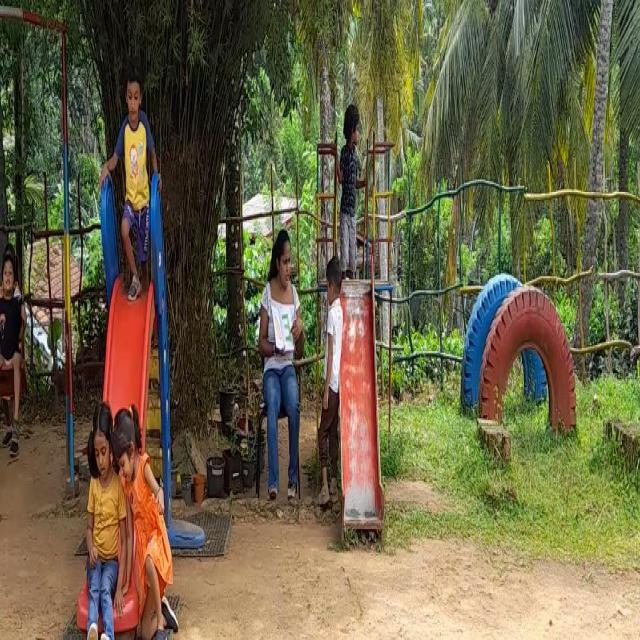adult: (247, 214, 307, 513)
child: (78, 399, 122, 640), (122, 392, 163, 640), (314, 262, 348, 532), (116, 62, 155, 290), (0, 231, 26, 448), (336, 104, 368, 278)
